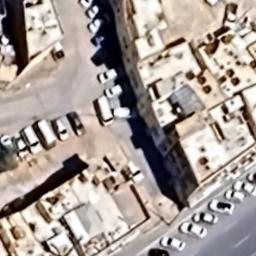SUV: (49, 116, 72, 144)
others: (30, 116, 58, 152)
sedan: (65, 110, 90, 138), (180, 220, 209, 240), (94, 65, 120, 87), (208, 197, 236, 217), (192, 208, 220, 226), (162, 232, 186, 252), (12, 134, 30, 160), (104, 82, 129, 100), (89, 16, 113, 34), (224, 186, 246, 204)
unknown: (146, 243, 171, 256), (78, 0, 92, 10)
van: (20, 124, 42, 156), (94, 97, 114, 129), (112, 105, 137, 120), (86, 4, 104, 19)
